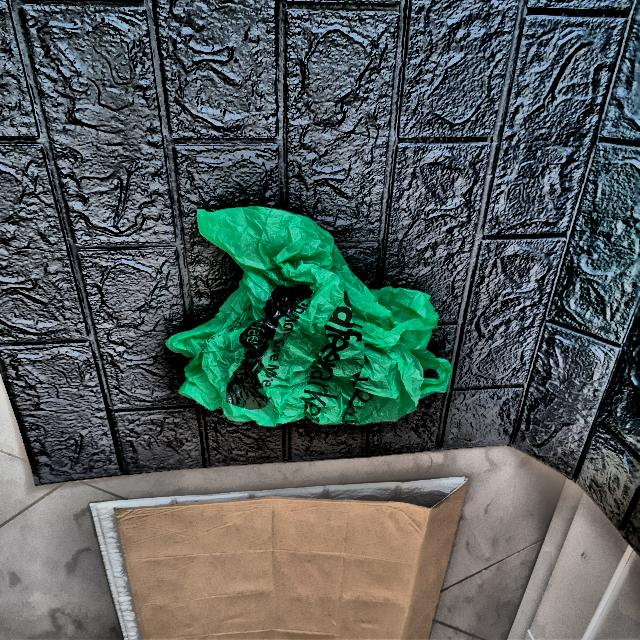plastic bag: (166, 205, 456, 429)
